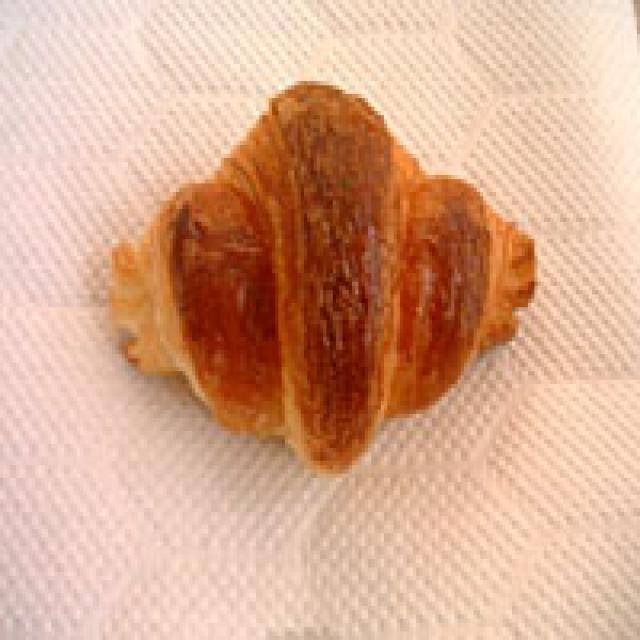Croissant: (103, 68, 540, 473)
